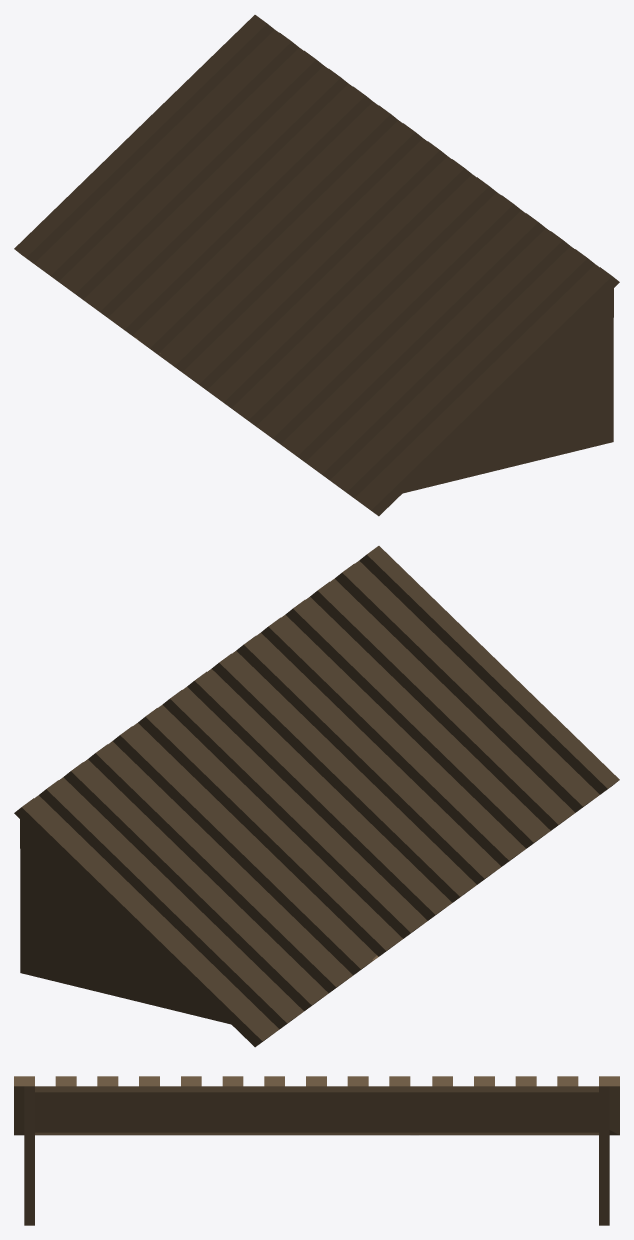
File: Roof single piece.fbx
The picture shows the model from 3 angles, top to bottom: view 1: azimuth 30°, elevation 25°; view 2: azimuth 150°, elevation 25°; view 3: azimuth 270°, elevation 25°; orthographic projection. The views are drawn at different scales.
Parts seen in each view (by area): view 1: Roof_End_3; view 2: Roof_End_3; view 3: Roof_End_3.
Boxes of the visible parts, x1=… form: Roof_End_3: x1=14, y1=15, x2=619, y2=516; Roof_End_3: x1=14, y1=546, x2=619, y2=1047; Roof_End_3: x1=14, y1=1076, x2=619, y2=1225.
Size of the model in its own units: 117 by 82.31 by 291.
